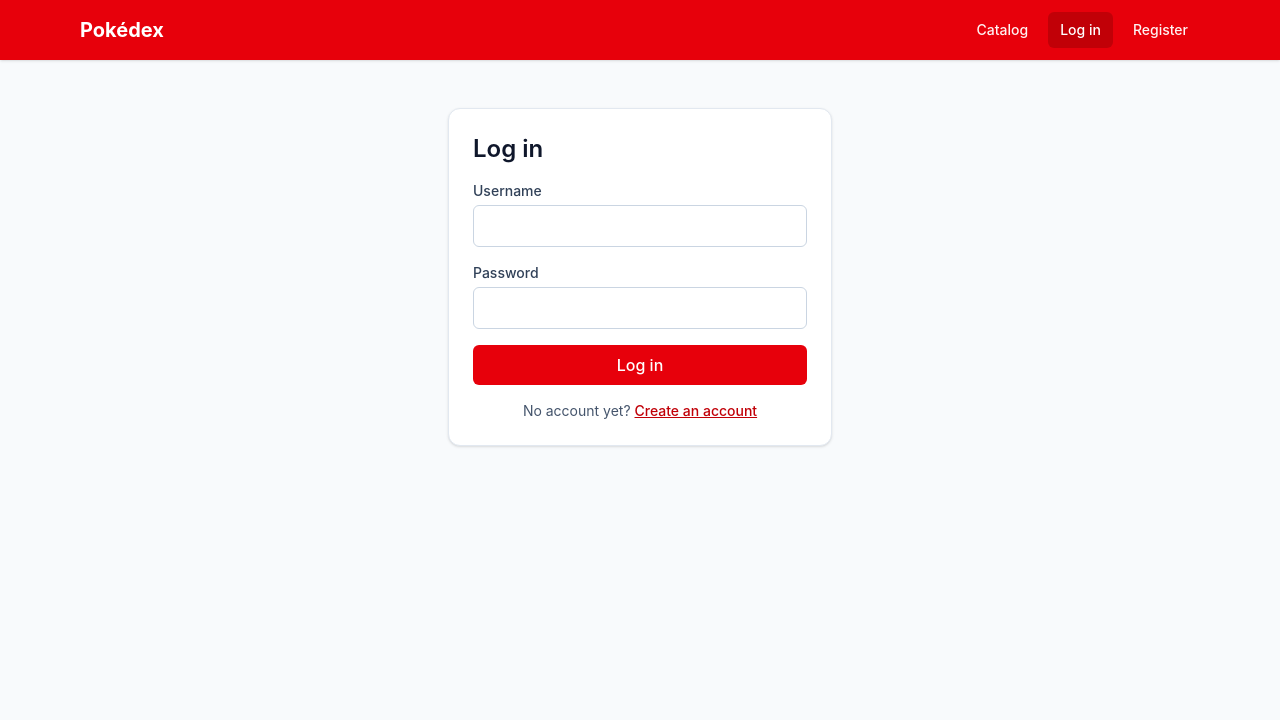
it: LoginPage › shows an error for wrong credentials and stays on the form
Type "ash" into the field labelled "Username" at (640, 226), box [473,205,807,247]
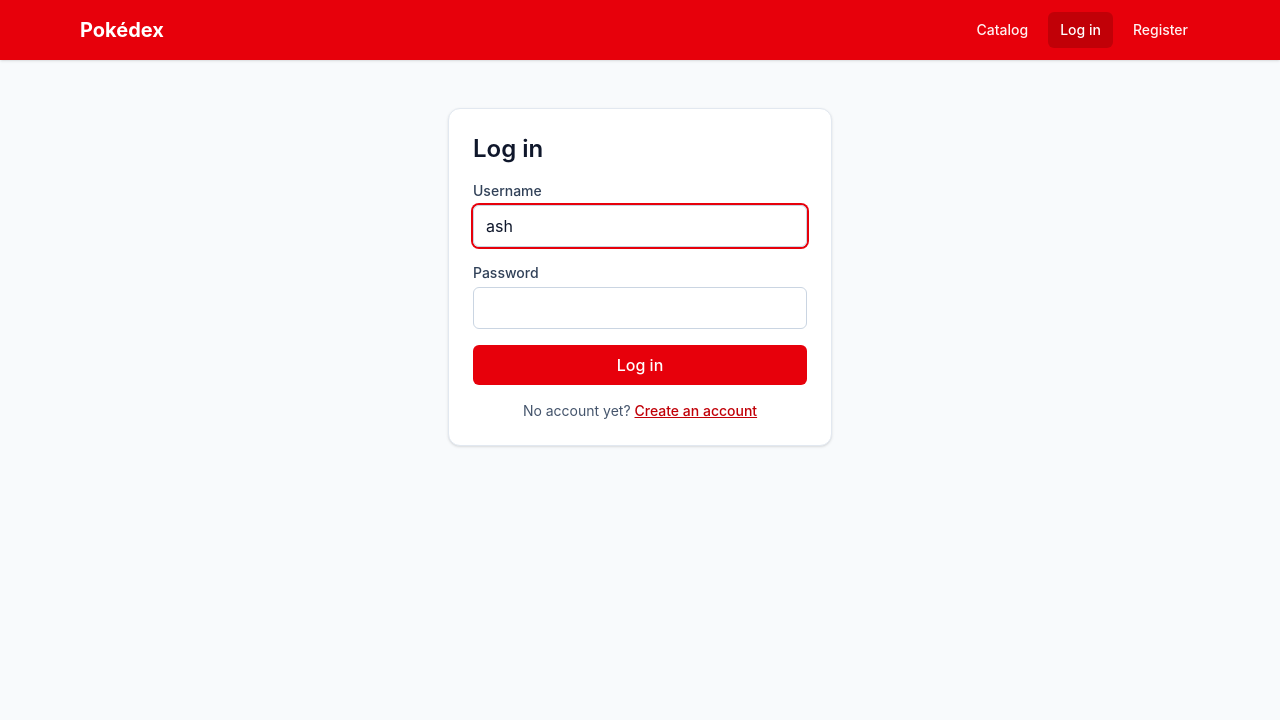
Type "WrongPassword1" into the password field labelled "Password" at (640, 308), box [473,287,807,329]
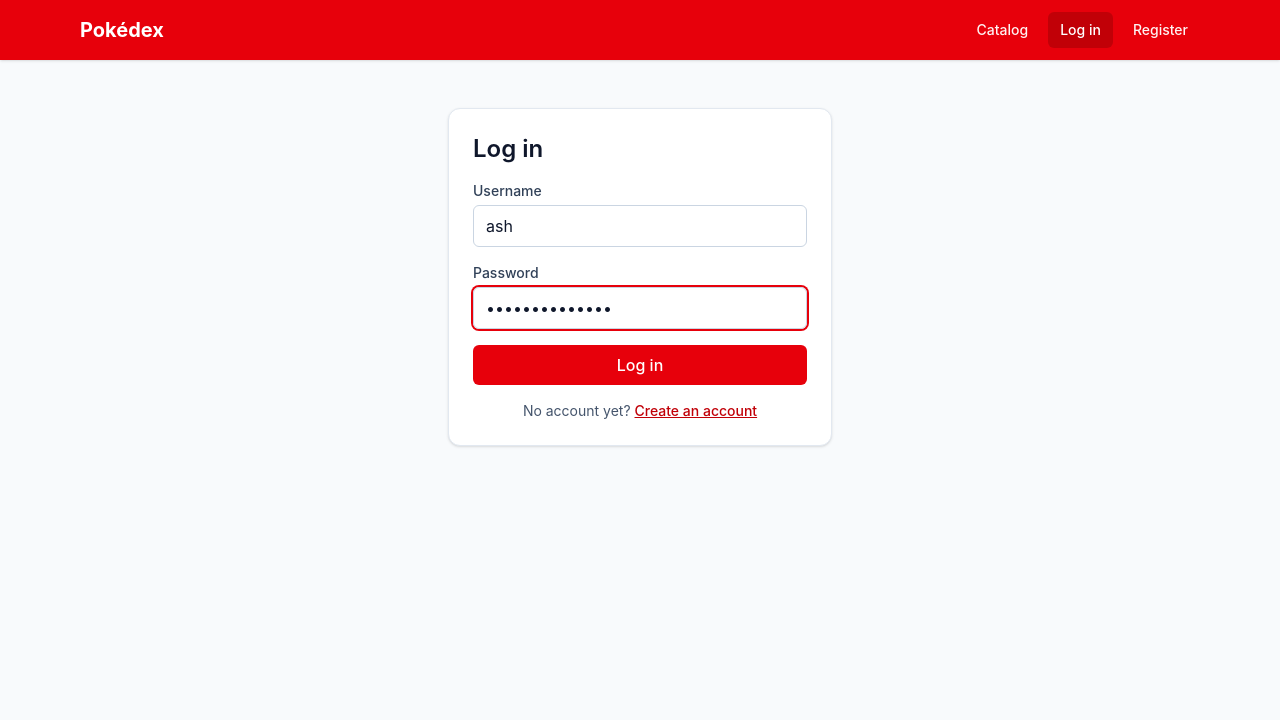
Click the button "Log in" at (640, 365), box [473,345,807,385]
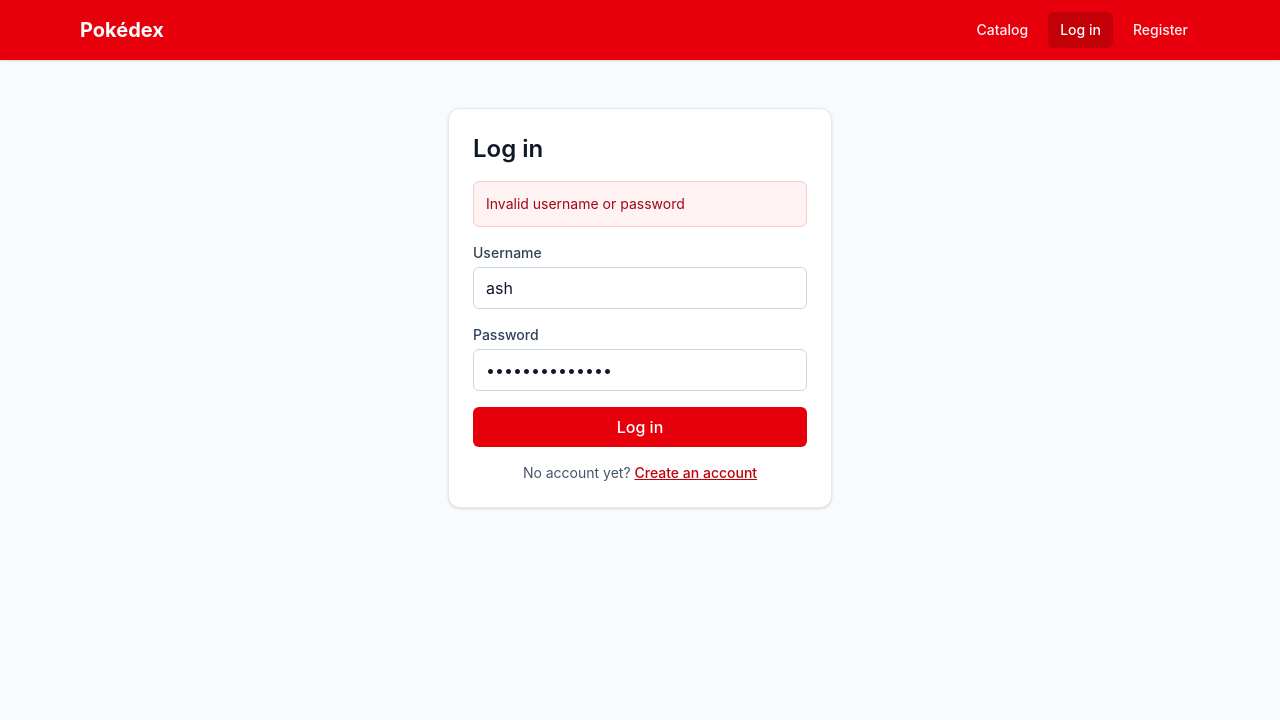
Now the message reads "Invalid username or password", box [486,195,685,212]
